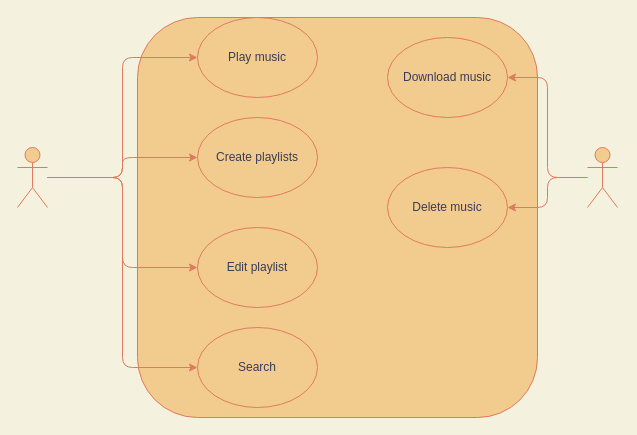
Some shapes in this 637 by 435 pixel diagram are drawn without their labels. The shapes that lost their labels are listed below. From the top down, each one's box as (x1, y1, x2, y2) in pixels, then its label:
(16, 146, 48, 208): User
(586, 146, 618, 208): Admin
